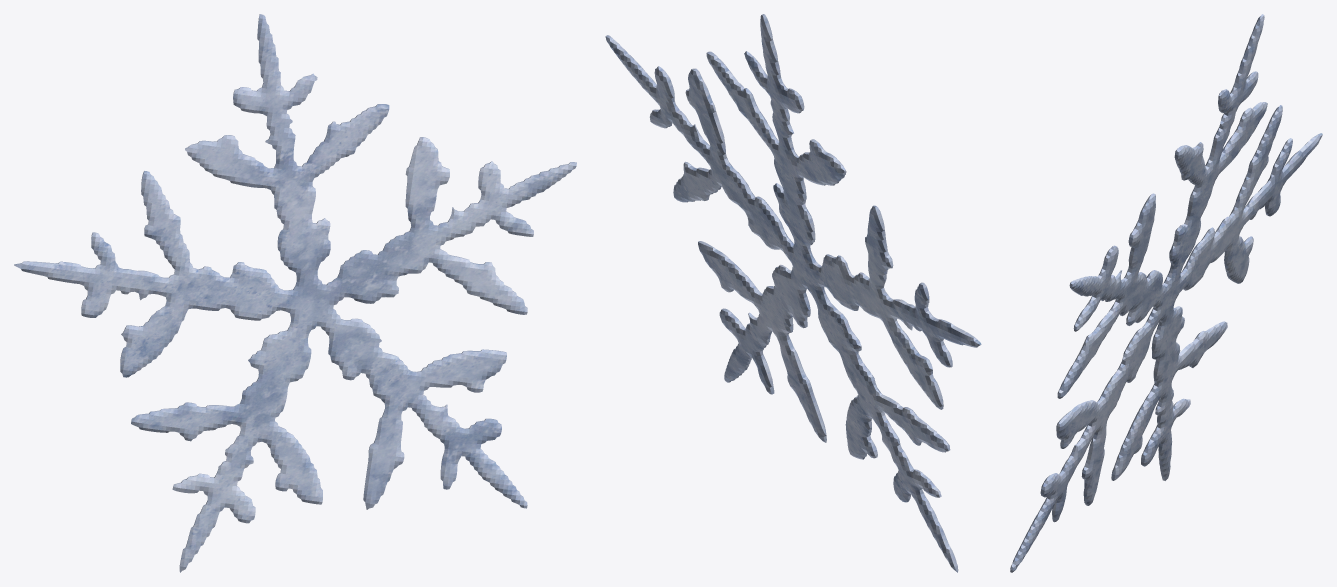
The model's file is snowflake.gltf.
The picture shows the model from 3 angles, left to right: view 1: azimuth 30°, elevation 25°; view 2: azimuth 150°, elevation 25°; view 3: azimuth 270°, elevation 25°; orthographic projection. The views are drawn at different scales.
Parts seen in each view (by area): view 1: Cube; view 2: Cube; view 3: Cube.
Boxes of the visible parts, <box> form: Cube: <box>14,14,576,572</box>; Cube: <box>605,14,981,572</box>; Cube: <box>1010,14,1322,572</box>.
Size of the model in its own units: 27.83 by 29.44 by 15.65.
1 material, 1 textured.
